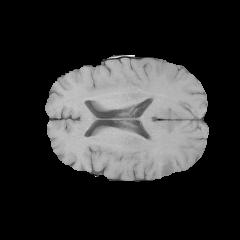glioma: (156, 153, 184, 177)
